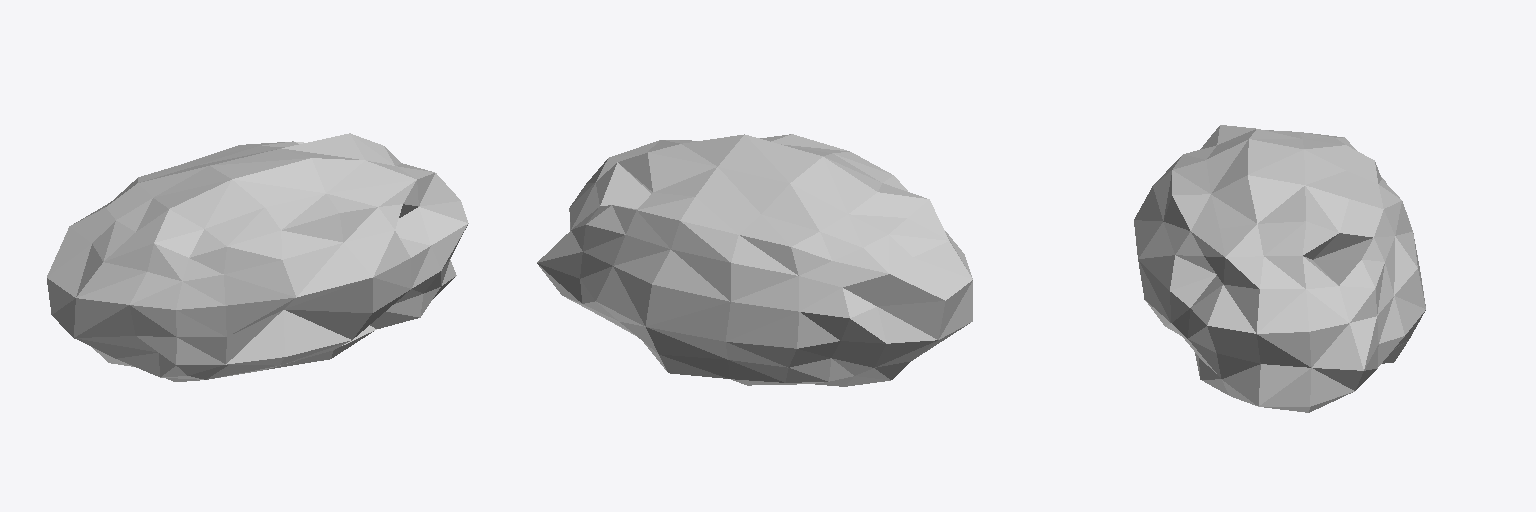
Rendered from rock5.obj.
3 views of the same model, side by side, from view 1: azimuth 30°, elevation 25°; view 2: azimuth 150°, elevation 25°; view 3: azimuth 270°, elevation 25° (orthographic).
Visible parts, largest first — view 1: Mesh; view 2: Mesh; view 3: Mesh.
Part boxes in pixels (left/top/right/bottom): Mesh: left=47, top=133, right=468, bottom=381; Mesh: left=537, top=134, right=972, bottom=386; Mesh: left=1134, top=125, right=1425, bottom=412.
Size of the model in its own units: 3.35 by 1.66 by 2.19.